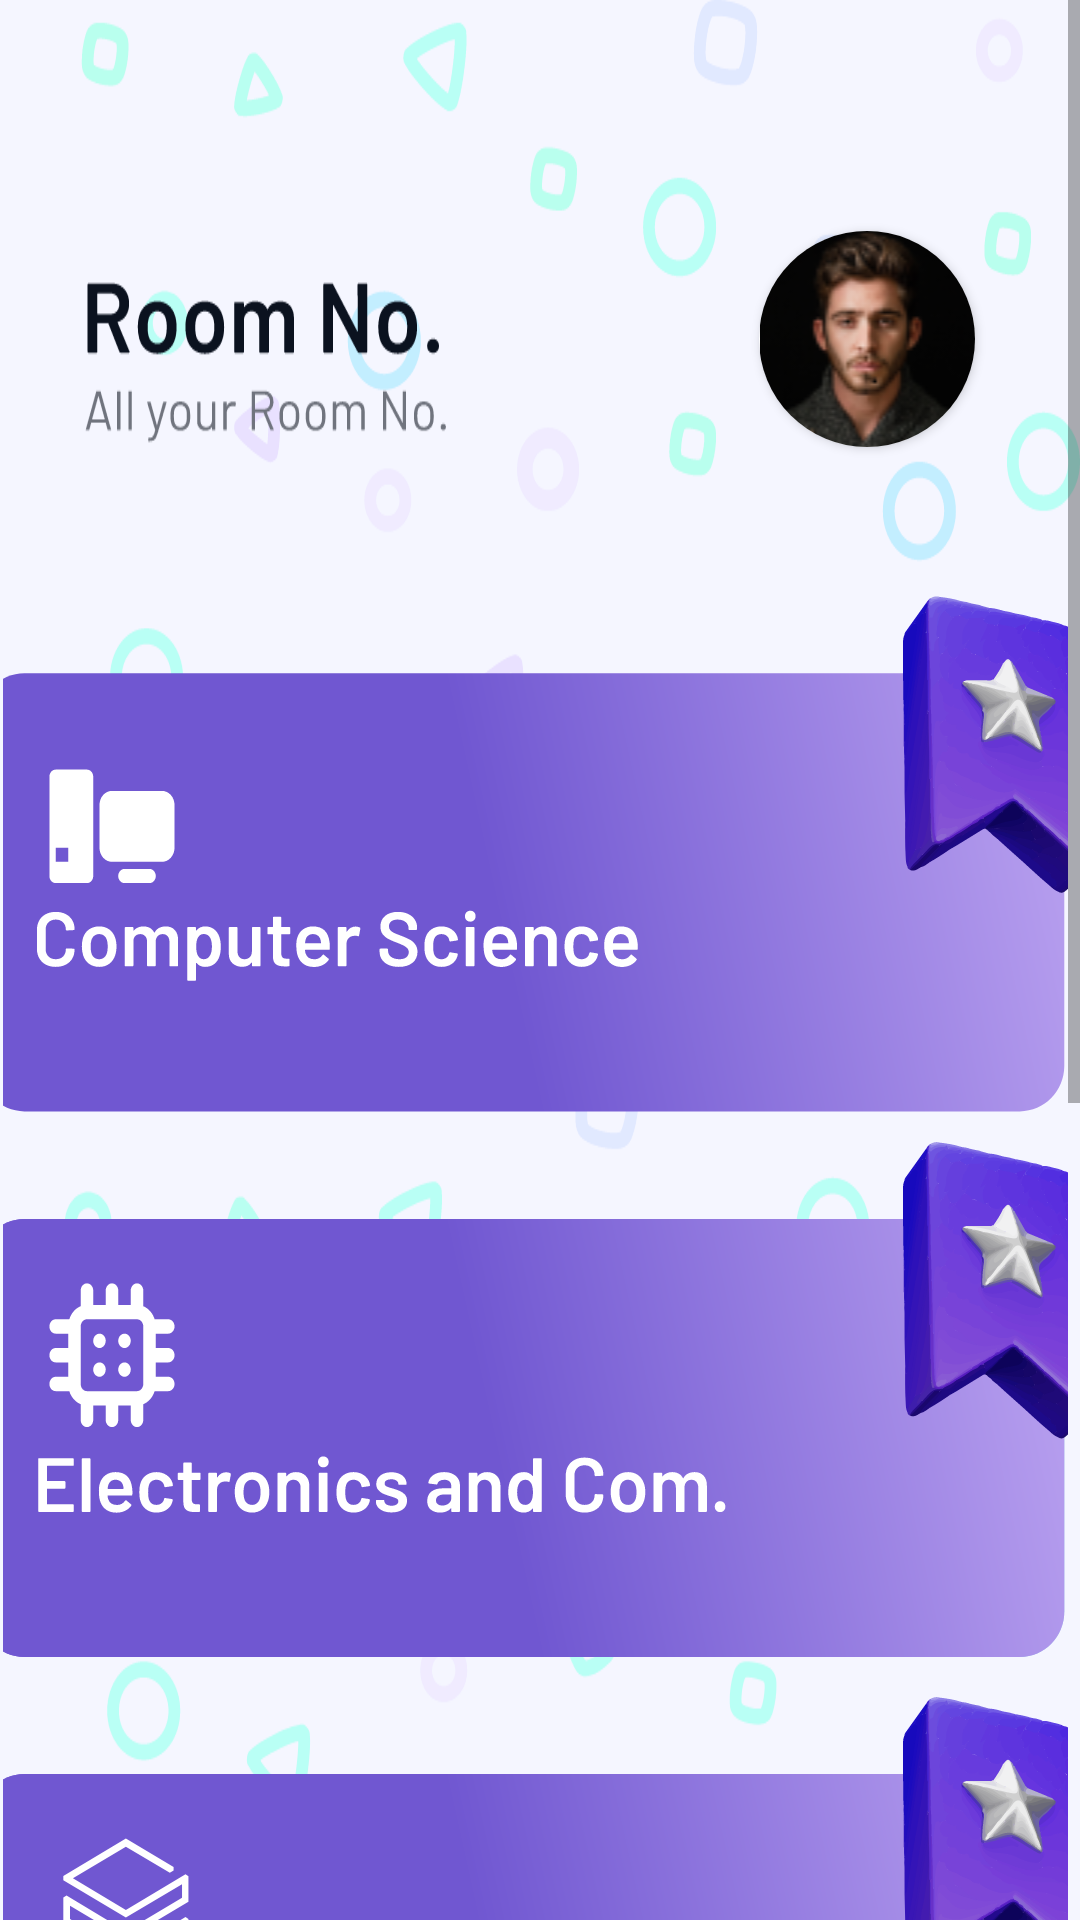

Locate icon controls on the screen. Image size 1080×1920, boxes as (x1, y1, x2, y2).
men profile: (760, 231, 975, 447)
